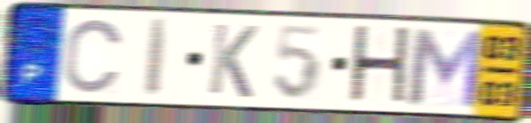5: (271, 22, 326, 104)
C: (61, 16, 127, 96)
H: (346, 23, 413, 110)
I: (141, 17, 174, 100)
K: (205, 21, 261, 101)
M: (406, 25, 487, 111)
